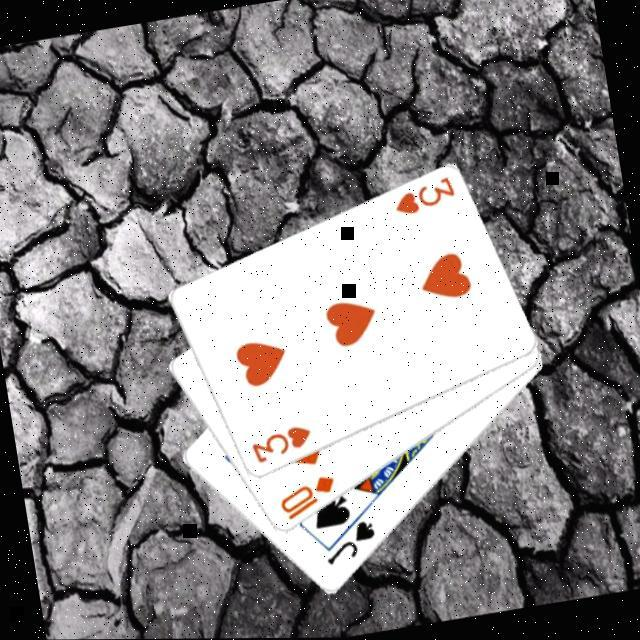10D: (272, 472, 341, 524)
3H: (386, 173, 459, 220), (244, 422, 316, 468)
JS: (317, 516, 381, 570)
